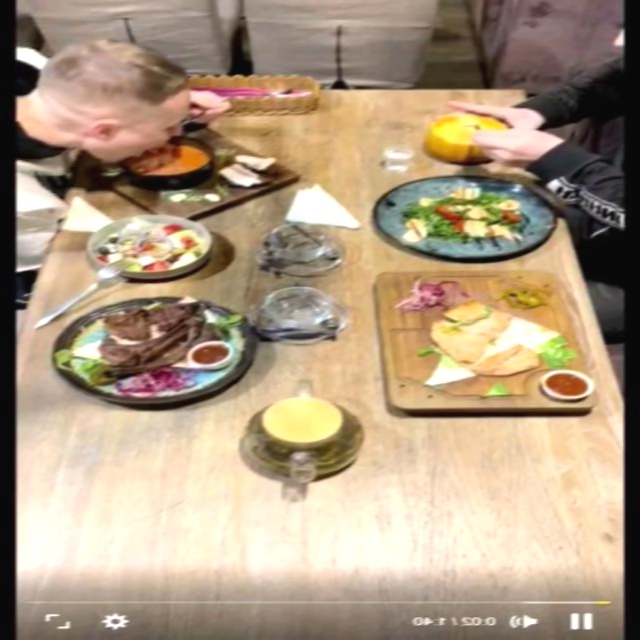meat: (373, 277, 595, 408), (51, 296, 261, 406)
salad: (375, 176, 562, 260), (87, 213, 213, 280)
soup: (73, 127, 303, 221), (424, 113, 511, 163)
tea: (242, 395, 367, 480)
